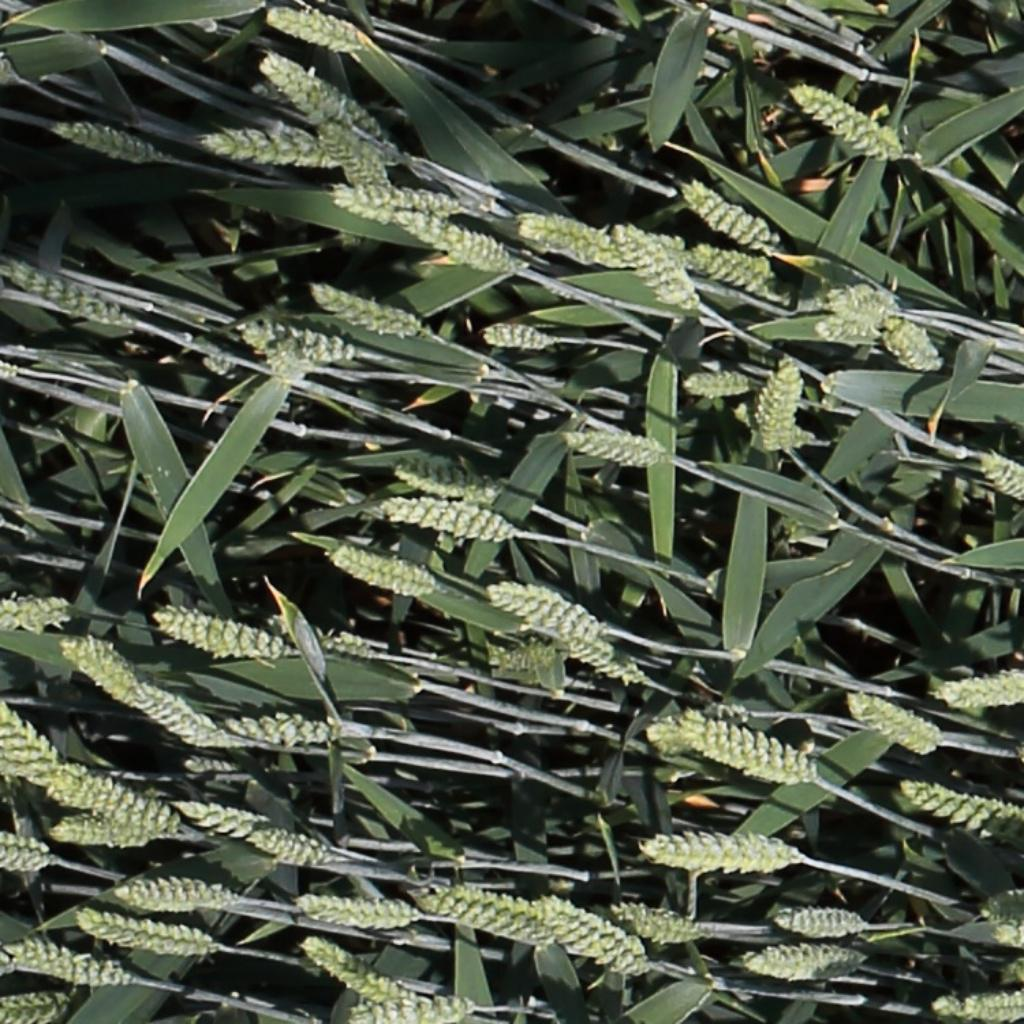0-0: (242, 44, 364, 143), (674, 707, 822, 786), (524, 888, 647, 977), (5, 255, 137, 334), (789, 81, 906, 163), (122, 672, 239, 754), (173, 791, 324, 853), (28, 752, 174, 816), (391, 206, 520, 278), (150, 598, 293, 660), (638, 828, 808, 880), (67, 909, 225, 963), (300, 920, 408, 995), (307, 275, 430, 339), (520, 210, 638, 275), (849, 685, 957, 755), (901, 771, 1024, 832), (374, 492, 523, 542), (324, 539, 445, 598), (6, 935, 133, 991), (416, 879, 557, 929), (484, 574, 603, 632), (611, 225, 697, 300), (744, 933, 871, 983), (226, 708, 359, 755), (681, 176, 772, 244), (212, 129, 343, 176), (58, 632, 142, 705), (325, 180, 472, 220), (561, 622, 652, 684), (113, 876, 240, 920), (322, 122, 390, 200), (756, 353, 807, 453), (291, 894, 418, 934), (561, 425, 664, 471), (244, 319, 354, 362), (880, 316, 947, 386), (608, 894, 700, 944), (350, 987, 472, 1024), (0, 690, 64, 760), (51, 117, 161, 157), (49, 811, 163, 849), (262, 6, 359, 50), (936, 669, 1024, 716), (931, 981, 1024, 1024), (391, 460, 494, 496), (771, 899, 868, 937), (237, 318, 301, 375), (689, 241, 771, 283), (477, 322, 570, 359), (0, 980, 77, 1024), (0, 593, 73, 636), (0, 831, 60, 880), (832, 284, 900, 327), (677, 368, 750, 406), (182, 752, 255, 785), (321, 628, 383, 666), (977, 446, 1024, 494), (496, 641, 555, 677), (818, 317, 890, 343), (989, 912, 1024, 936), (1003, 935, 1024, 968)
